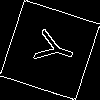Y: (24, 24, 78, 71)
